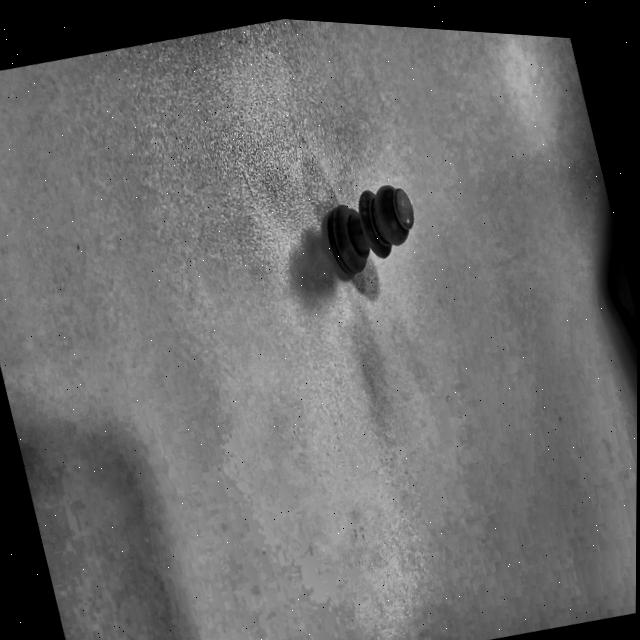white-bishop: (297, 184, 413, 304)
